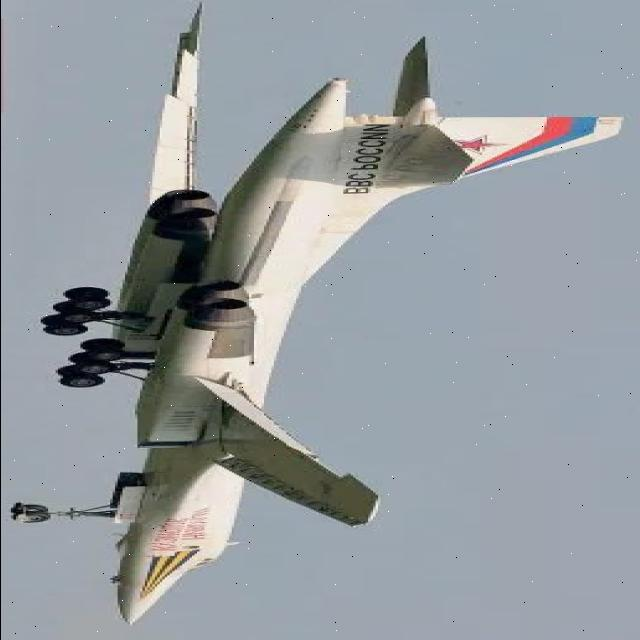Tu160: (3, 1, 637, 640)
